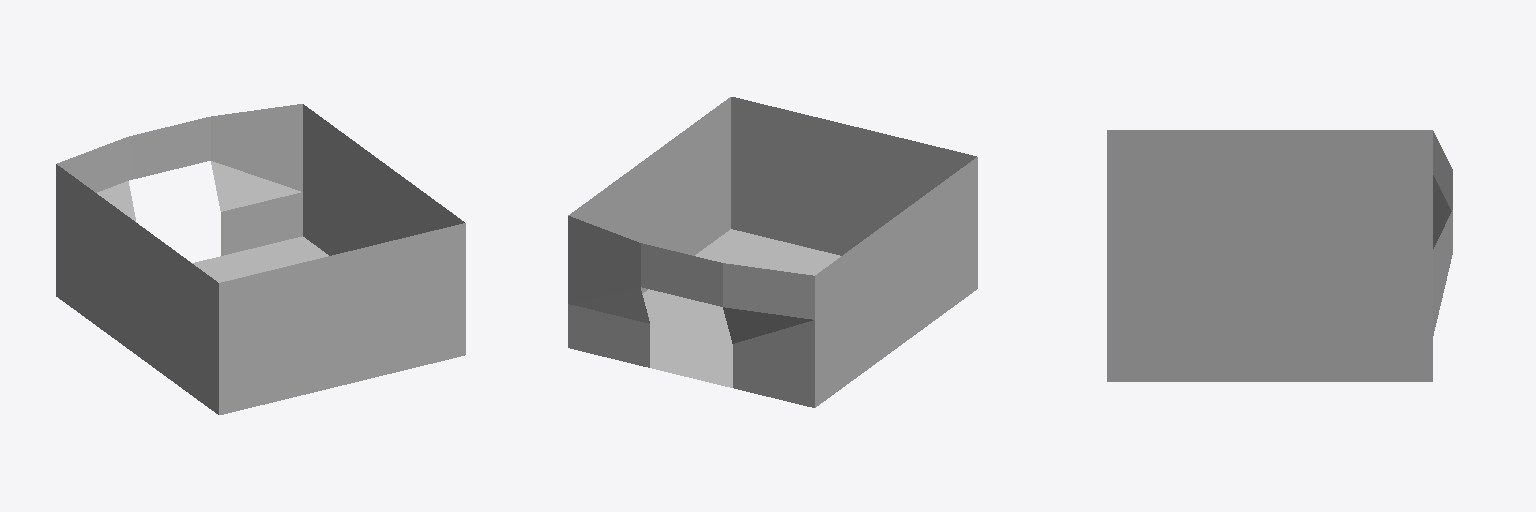
Rendered from houseModel.obj.
The picture shows the model from 3 angles: view 1: azimuth 30°, elevation 25°; view 2: azimuth 150°, elevation 25°; view 3: azimuth 270°, elevation 25°; orthographic projection.
Visible parts, largest first — view 1: Plane; view 2: Plane; view 3: Plane.
Part boxes in pixels (bbox=[...]): Plane: bbox=[56, 104, 465, 414]; Plane: bbox=[568, 97, 977, 407]; Plane: bbox=[1107, 130, 1452, 381].
Size of the model in its own units: 12.24 by 6.29 by 14.85.